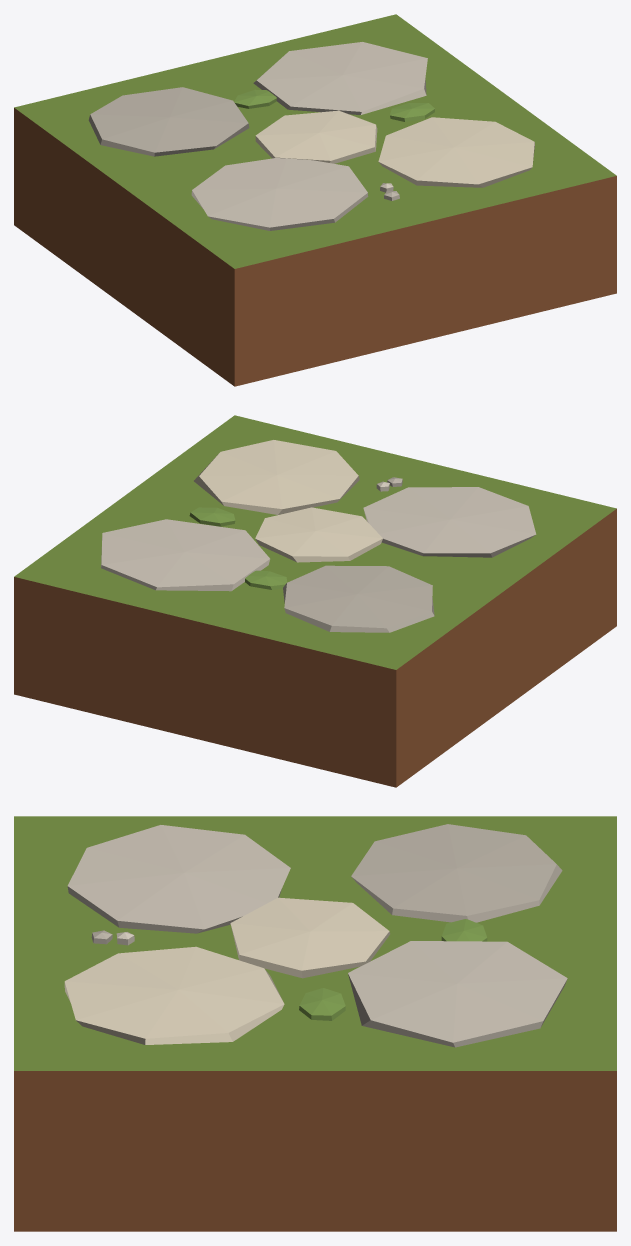
The model's file is tile_flagstone.glb.
3 renders of one model, top to bottom at view 1: azimuth 30°, elevation 25°; view 2: azimuth 150°, elevation 25°; view 3: azimuth 270°, elevation 25°, orthographic. The views are drawn at different scales.
Parts seen in each view (by area): view 1: flagstone_body, flagstone_cap, flagstone_0, flagstone_3, flagstone_1, flagstone_2, flagstone_4, flagstone_moss_1, flagstone_moss_0; view 2: flagstone_body, flagstone_cap, flagstone_0, flagstone_3, flagstone_1, flagstone_2, flagstone_4, flagstone_moss_1, flagstone_moss_0; view 3: flagstone_body, flagstone_cap, flagstone_0, flagstone_3, flagstone_1, flagstone_2, flagstone_4, flagstone_moss_1, flagstone_moss_0.
Part boxes in pixels (<box>): flagstone_body: <box>14,121,616,386</box>; flagstone_cap: <box>14,14,616,281</box>; flagstone_0: <box>191,158,368,230</box>; flagstone_3: <box>253,42,427,114</box>; flagstone_1: <box>378,117,534,187</box>; flagstone_2: <box>88,87,249,156</box>; flagstone_4: <box>255,110,377,163</box>; flagstone_moss_1: <box>390,103,434,121</box>; flagstone_moss_0: <box>234,89,276,108</box>; flagstone_body: <box>14,522,616,787</box>; flagstone_cap: <box>14,415,616,682</box>; flagstone_0: <box>363,487,536,557</box>; flagstone_3: <box>101,519,270,591</box>; flagstone_1: <box>194,440,359,514</box>; flagstone_2: <box>283,565,434,632</box>; flagstone_4: <box>255,507,382,562</box>; flagstone_moss_1: <box>189,507,235,526</box>; flagstone_moss_0: <box>245,570,286,589</box>; flagstone_body: <box>14,1088,616,1231</box>; flagstone_cap: <box>14,816,616,1088</box>; flagstone_0: <box>67,825,290,933</box>; flagstone_3: <box>348,941,567,1047</box>; flagstone_1: <box>64,946,284,1044</box>; flagstone_2: <box>351,824,562,922</box>; flagstone_4: <box>230,897,390,978</box>; flagstone_moss_1: <box>299,988,345,1020</box>; flagstone_moss_0: <box>441,919,487,941</box>.
Bounding box in the file's own units: 1.7 × 0.5413 × 1.7.
